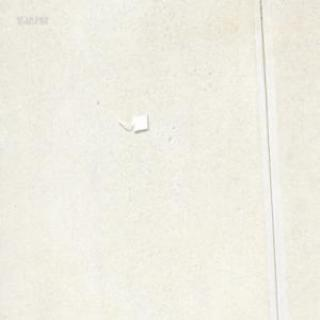LuggageTagtrack_idkeyframe: (115, 112, 148, 132)
